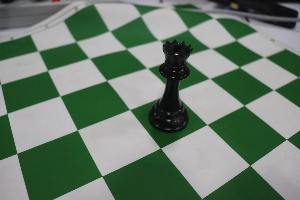black_queen: (147, 29, 195, 134)
